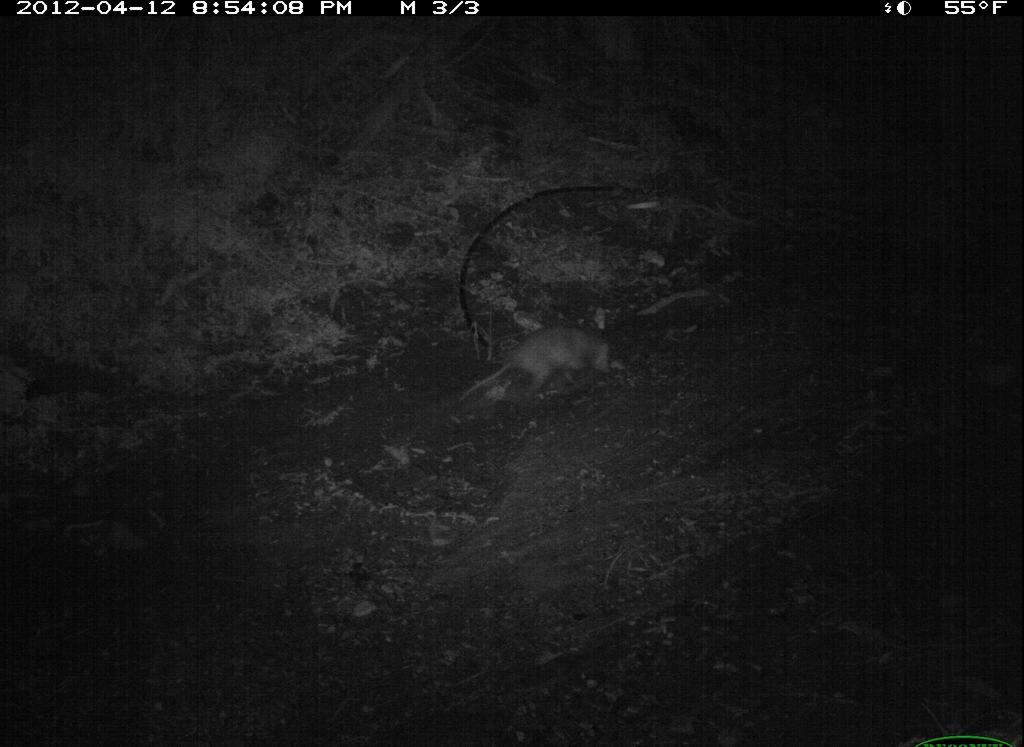opossum: (451, 315, 656, 413)
